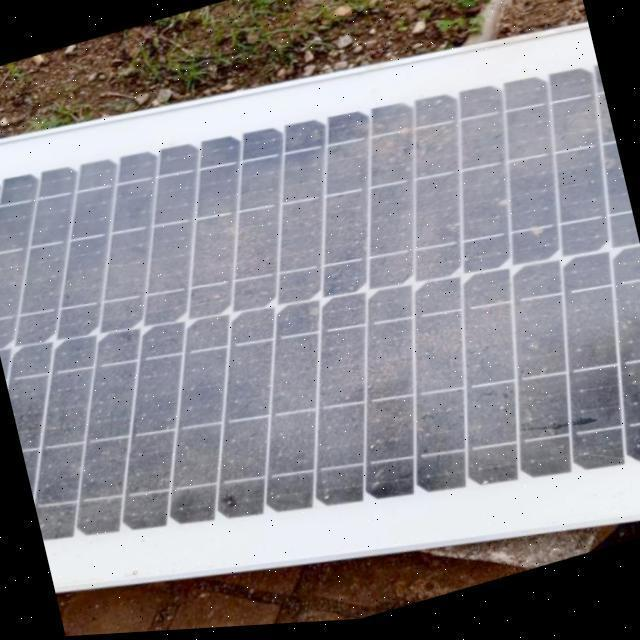Anomaly Solar Panel: (0, 13, 640, 586)
Surface Contaminant: (0, 43, 640, 568)
